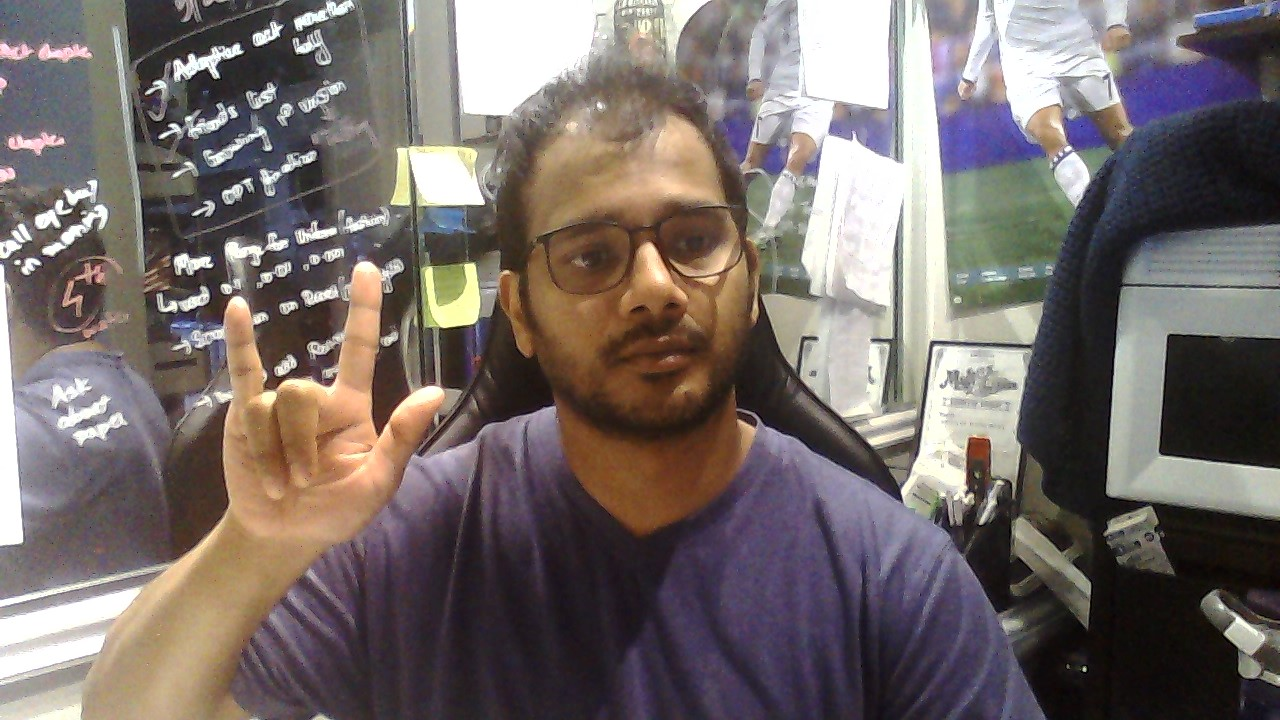ILoveYou: (222, 261, 445, 541)
